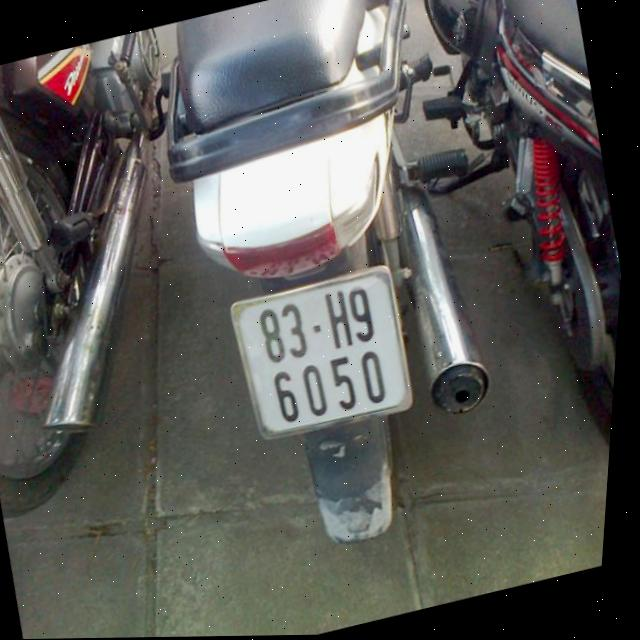motorcycle: (110, 0, 553, 578), (354, 0, 640, 521), (0, 24, 265, 534)
plate: (217, 258, 428, 449)
